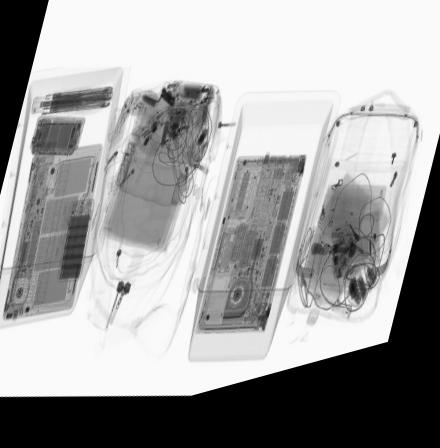Powerbank: (56, 204, 95, 287)
